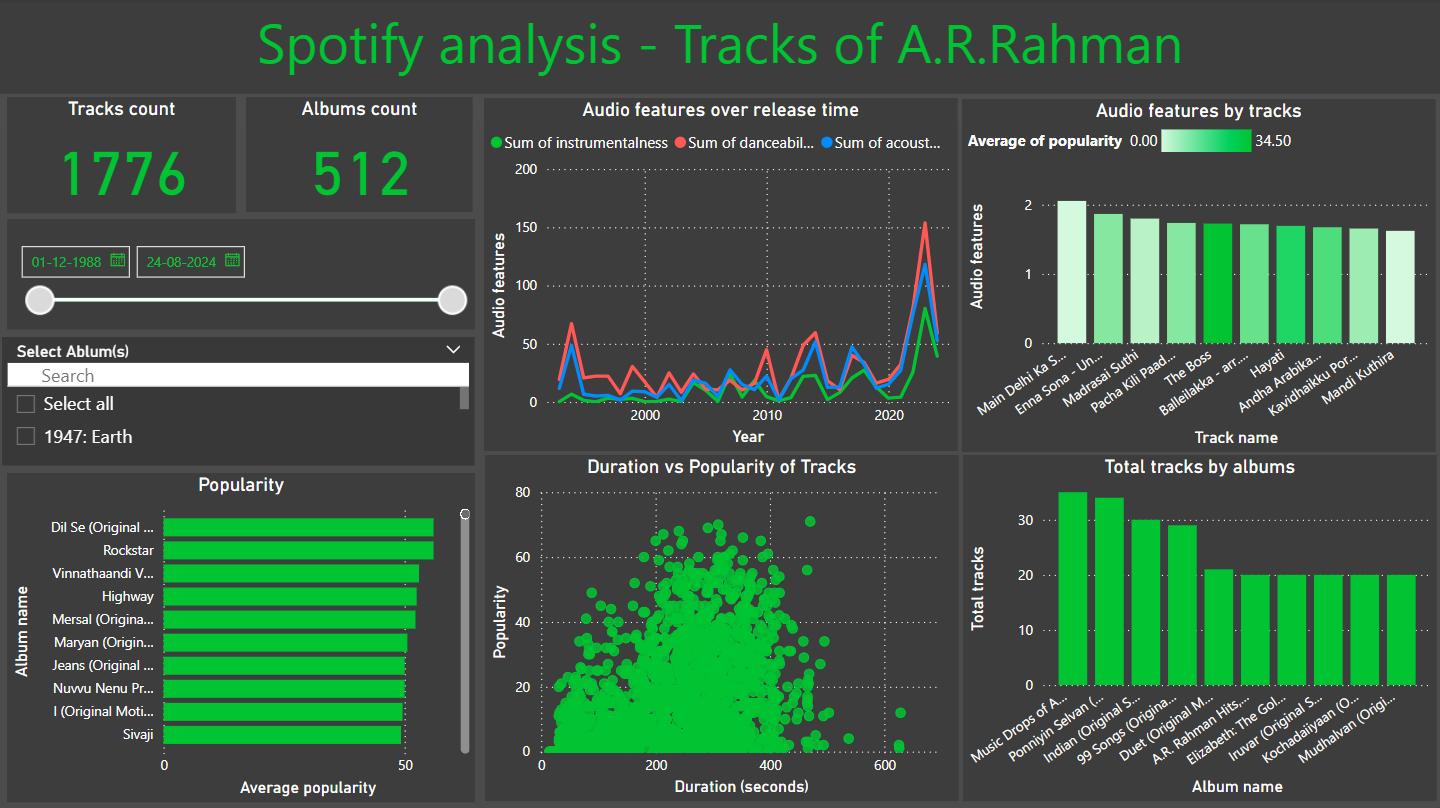

The dashboard page shown, as its layout file describes it:
{"tool":"powerbi","page":{"name":"Page 1","canvas":[1280,720],"ordinal":0},"visuals":[{"type":"card","title":"Tracks count","fields":{"Values":["tracks_data.track_id"]},"box":[8.1,87.2,203.5,103.5],"z":0},{"type":"textbox","box":[0,0,1280.2,83.7],"z":1000},{"type":"lineChart","title":"Audio features over release time","fields":{"Category":["album_data.release_date.Variation.Date Hierarchy.Year","album_data.release_date.Variation.Date Hierarchy.Quarter","album_data.release_date.Variation.Date Hierarchy.Month","album_data.release_date.Variation.Date Hierarchy.Day"],"Y":["track_audio_features_data.instrumentalness","track_audio_features_data.danceability","track_audio_features_data.acousticness"]},"box":[430.9,87.8,419.9,312.9],"z":2000},{"type":"scatterChart","title":"Duration vs Popularity of Tracks","fields":{"X":["track_audio_features_data.duration_sec"],"Y":["track_audio_features_data.popularity"],"Category":["tracks_data.track_name"]},"box":[431.4,404.7,419.8,307],"z":3000},{"type":"clusteredColumnChart","title":"Audio features by tracks","fields":{"Category":["tracks_data.track_name"],"Y":["track_audio_features_data.cummulative_audio_feature"]},"box":[854.7,88.4,419.8,312.8],"z":4000},{"type":"clusteredBarChart","title":"Popularity","fields":{"Category":["tracks_data.album-track Hierarchy.album_name","tracks_data.album-track Hierarchy.track_name"],"Y":["track_audio_features_data.popularity"]},"box":[7.8,420.2,415.3,291.8],"z":5000},{"type":"clusteredColumnChart","title":"Total tracks by albums","fields":{"Category":["album_data.album_name"],"Y":["tracks_data.count_of_arr_tracks_in_album"]},"box":[855.8,404.7,419.8,307],"z":6000},{"type":"card","title":"Albums count","fields":{"Values":["album_data.album_id"]},"box":[219.8,87.2,201.2,102.3],"z":7000},{"type":"slicer","fields":{"Values":["album_data.release_date"]},"box":[7.8,195.5,415.3,98.2],"z":8000},{"type":"slicer","fields":{"Values":["album_data.album_name"]},"box":[3.9,299.6,419.2,113.8],"z":9000}]}

Visuals, with their boxes in screenshot pixels (x1, y1, x2, y2), scaled from the page's 1280x720 canvas onto the 1440x808 screenshot:
"Tracks count" card: (9, 98, 238, 214)
textbox: (0, 0, 1439, 94)
"Audio features over release time" lineChart: (485, 99, 957, 450)
"Duration vs Popularity of Tracks" scatterChart: (485, 454, 958, 799)
"Audio features by tracks" clusteredColumnChart: (962, 99, 1434, 450)
"Popularity" clusteredBarChart: (9, 472, 476, 799)
"Total tracks by albums" clusteredColumnChart: (963, 454, 1435, 799)
"Albums count" card: (247, 98, 474, 213)
slicer - album_data.release_date: (9, 219, 476, 330)
slicer - album_data.album_name: (4, 336, 476, 464)
